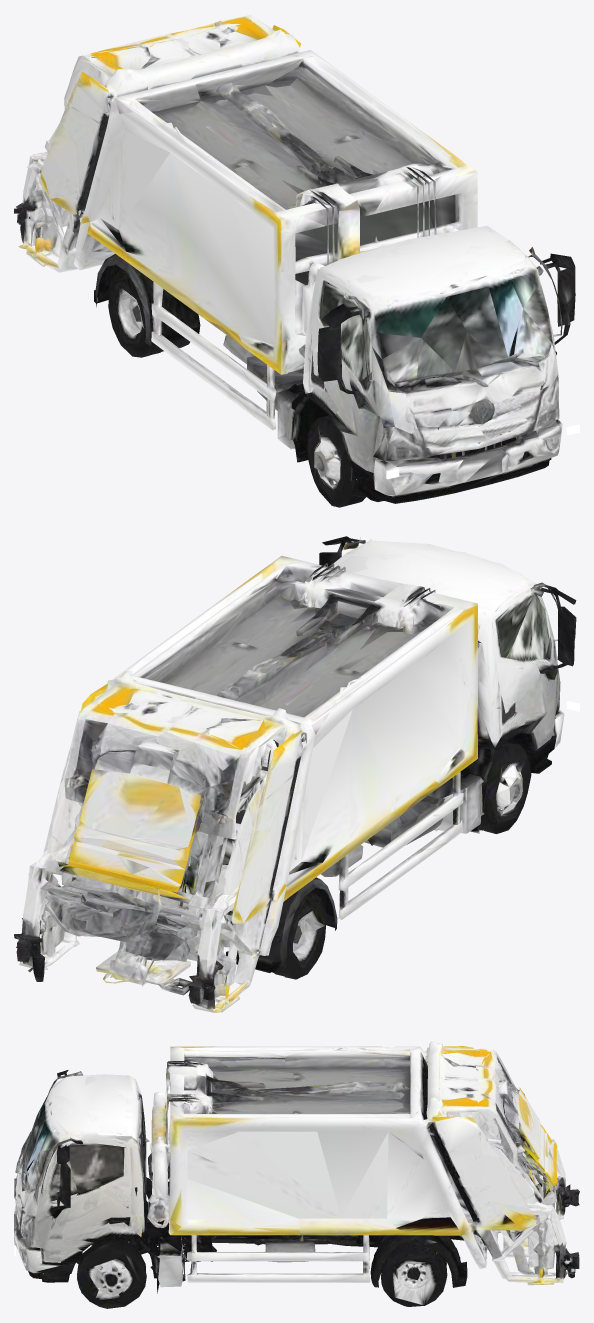
Rendered from garbage.glb.
The picture shows the model from 3 angles, top to bottom: view 1: azimuth 30°, elevation 25°; view 2: azimuth 150°, elevation 25°; view 3: azimuth 270°, elevation 25°; orthographic projection. The views are drawn at different scales.
Parts seen in each view (by area): view 1: Body, LiftMesh, wheel_0R, wheel_1R; view 2: Body, LiftMesh, wheel_0R, wheel_1R; view 3: Body, LiftMesh, wheel_0L, wheel_1L.
Part boxes in pixels (x1=…): Body: x1=17, y1=17, x2=575, y2=503; LiftMesh: x1=14, y1=14, x2=258, y2=258; wheel_0R: x1=307, y1=415, x2=364, y2=507; wheel_1R: x1=108, y1=271, x2=158, y2=357; Body: x1=16, y1=536, x2=576, y2=1012; LiftMesh: x1=14, y1=703, x2=273, y2=989; wheel_0R: x1=479, y1=741, x2=531, y2=833; wheel_1R: x1=274, y1=892, x2=336, y2=979; Body: x1=14, y1=1041, x2=579, y2=1293; LiftMesh: x1=476, y1=1047, x2=579, y2=1261; wheel_0L: x1=77, y1=1242, x2=146, y2=1308; wheel_1L: x1=378, y1=1245, x2=447, y2=1306.
Bounding box in the file's own units: 3.74 × 3.85 × 9.5.
Materials: 3 (1 with a texture image).
